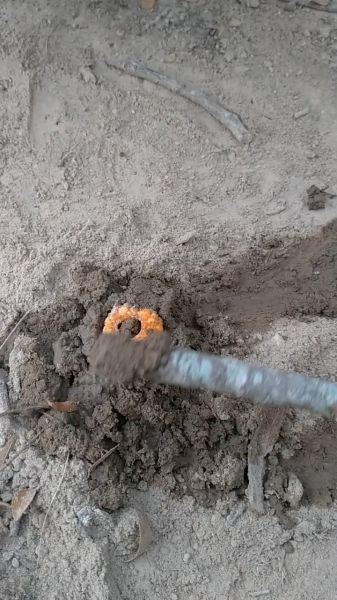eggs: (103, 304, 167, 350)
